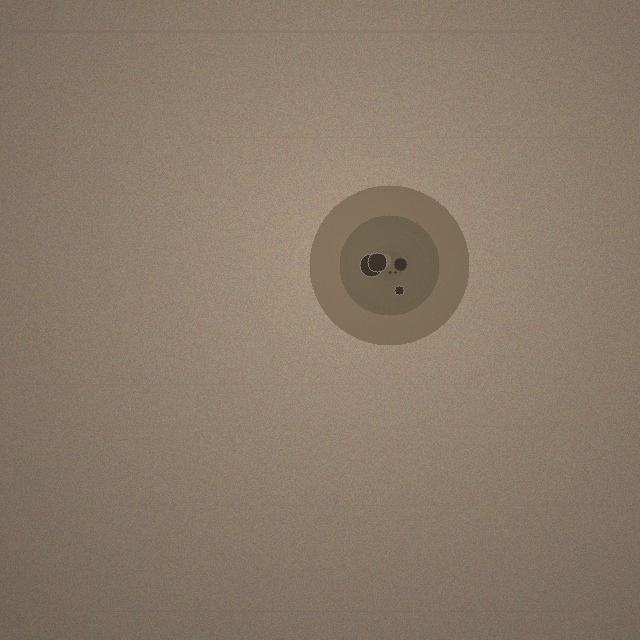shrinkage: (309, 185, 469, 345)
